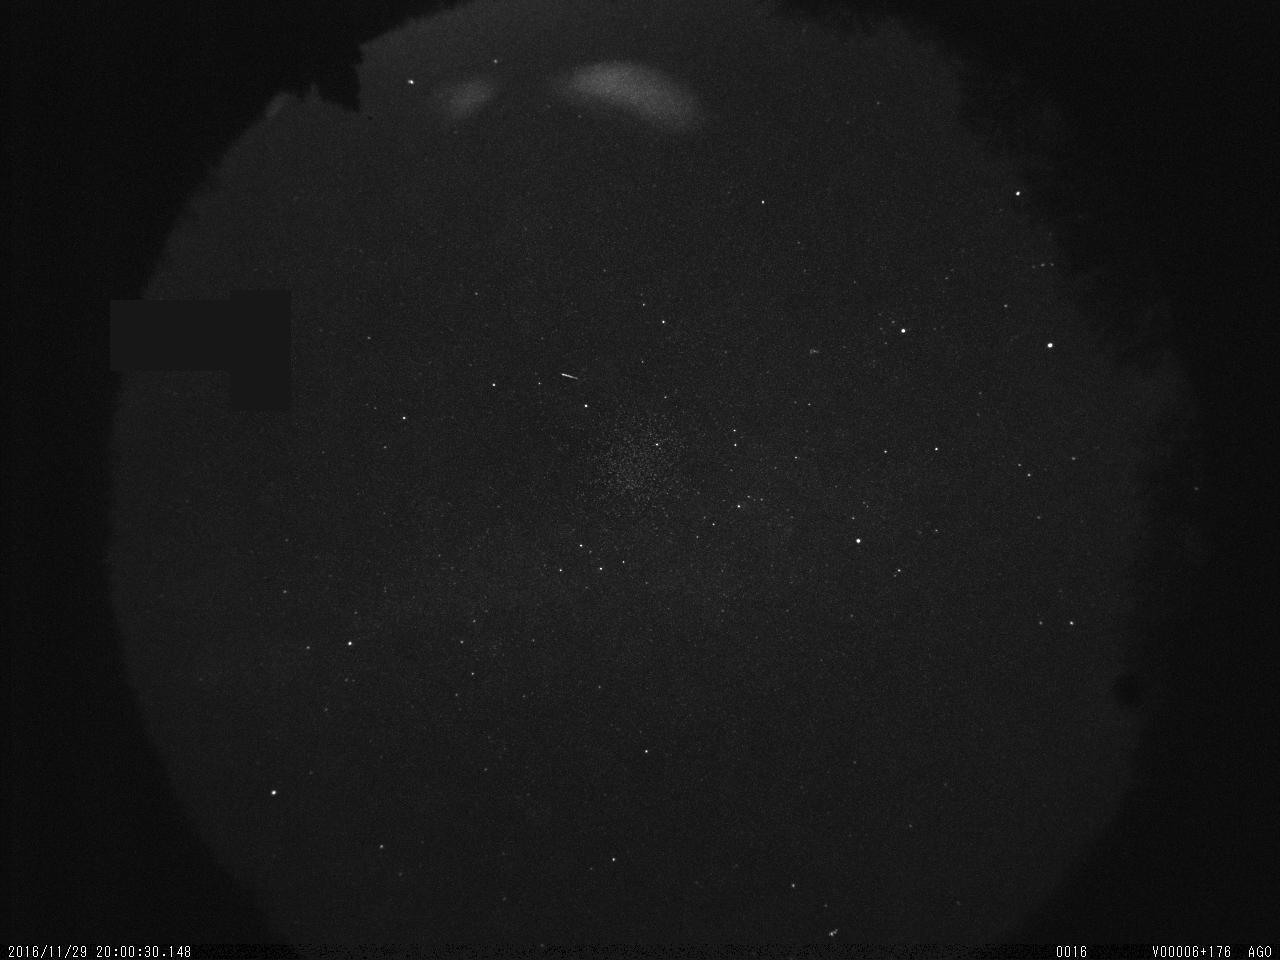Meteor: (558, 366, 580, 387)
